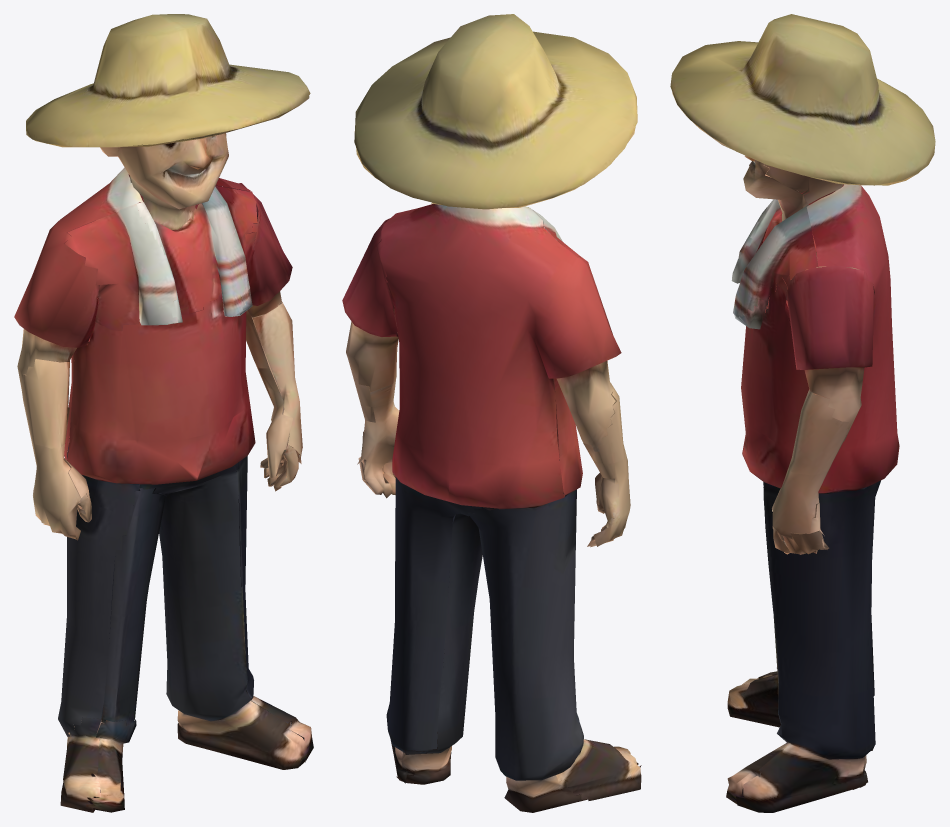
The model's file is npc_mang_udin.glb.
3 renders of one model, left to right at view 1: azimuth 30°, elevation 25°; view 2: azimuth 150°, elevation 25°; view 3: azimuth 270°, elevation 25°, orthographic. The views are drawn at different scales.
Visible parts, largest first — view 1: torso, leg_r, leg_l; view 2: torso, leg_r, leg_l; view 3: torso, leg_l, leg_r.
Boxes of the visible parts, <box> form: torso: <box>14,14,310,448</box>; leg_r: <box>31,415,197,812</box>; leg_l: <box>159,376,313,769</box>; torso: <box>342,14,637,465</box>; leg_r: <box>448,416,641,812</box>; leg_l: <box>357,398,482,784</box>; torso: <box>670,14,935,475</box>; leg_l: <box>726,415,898,812</box>; leg_r: <box>727,434,899,727</box>.
Size of the model in its own units: 0.6281 by 1.68 by 0.5484.
Materials: 1 (1 with a texture image).
